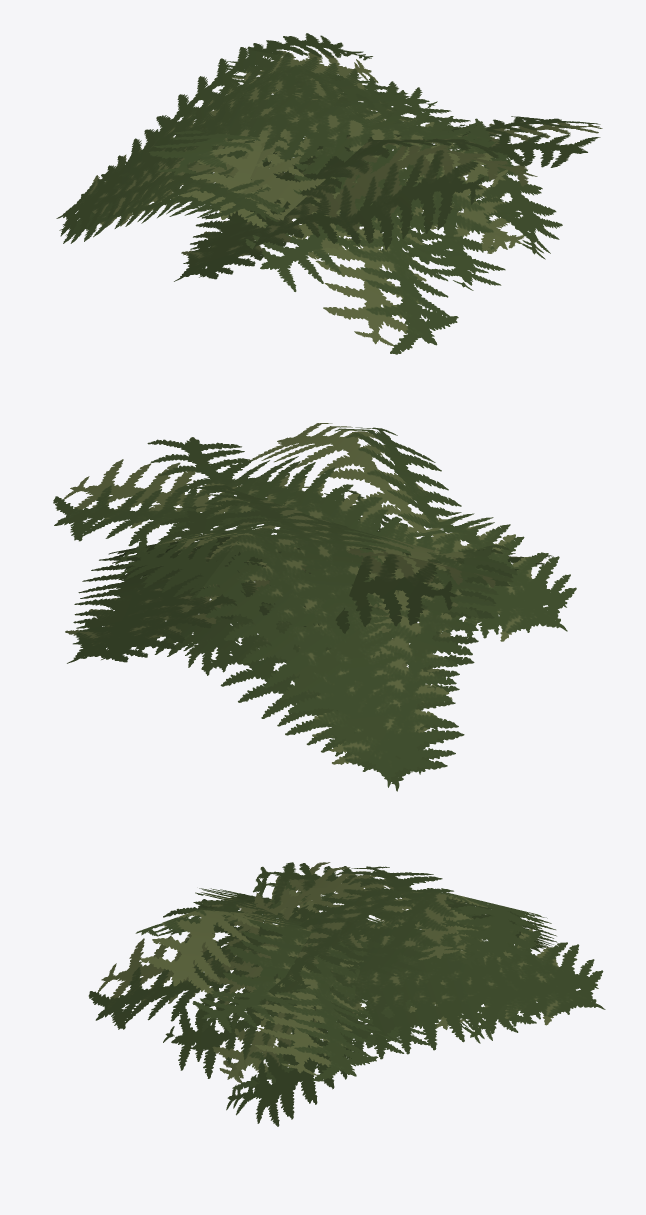
Rendered from Firleaf_Pile.fbx.
3 views of the same model, one above another, from view 1: azimuth 30°, elevation 25°; view 2: azimuth 150°, elevation 25°; view 3: azimuth 270°, elevation 25° (orthographic). The views are drawn at different scales.
Visible parts, largest first — view 1: FirleafPile1:FirleafPile:pCylinder2group1pPlane12, FirleafPile1:FirleafPile:pCylinder2group1pPlane6, FirleafPile1:FirleafPile:pCylinder2group1pPlane3, FirleafPile1:FirleafPile:pPlane4pCylinder2group1; view 2: FirleafPile1:FirleafPile:pCylinder2group1pPlane12, FirleafPile1:FirleafPile:pCylinder2group1pPlane3, FirleafPile1:FirleafPile:pCylinder2group1pPlane6, FirleafPile1:FirleafPile:pPlane4pCylinder2group1; view 3: FirleafPile1:FirleafPile:pCylinder2group1pPlane6, FirleafPile1:FirleafPile:pCylinder2group1pPlane3, FirleafPile1:FirleafPile:pCylinder2group1pPlane12, FirleafPile1:FirleafPile:pPlane4pCylinder2group1.
Boxes of the visible parts, x1=… form: FirleafPile1:FirleafPile:pCylinder2group1pPlane12: x1=56, y1=33, x2=516, y2=239; FirleafPile1:FirleafPile:pCylinder2group1pPlane6: x1=149, y1=61, x2=562, y2=354; FirleafPile1:FirleafPile:pCylinder2group1pPlane3: x1=174, y1=116, x2=602, y2=281; FirleafPile1:FirleafPile:pPlane4pCylinder2group1: x1=59, y1=105, x2=533, y2=264; FirleafPile1:FirleafPile:pCylinder2group1pPlane12: x1=116, y1=484, x2=517, y2=787; FirleafPile1:FirleafPile:pCylinder2group1pPlane3: x1=53, y1=423, x2=576, y2=675; FirleafPile1:FirleafPile:pCylinder2group1pPlane6: x1=65, y1=532, x2=553, y2=663; FirleafPile1:FirleafPile:pPlane4pCylinder2group1: x1=106, y1=549, x2=513, y2=791; FirleafPile1:FirleafPile:pCylinder2group1pPlane6: x1=88, y1=862, x2=605, y2=1126; FirleafPile1:FirleafPile:pCylinder2group1pPlane3: x1=135, y1=888, x2=483, y2=1081; FirleafPile1:FirleafPile:pCylinder2group1pPlane12: x1=202, y1=862, x2=557, y2=1005; FirleafPile1:FirleafPile:pPlane4pCylinder2group1: x1=201, y1=873, x2=541, y2=1089.
Bounding box in the file's own units: 23.16 × 7.37 × 22.43.
